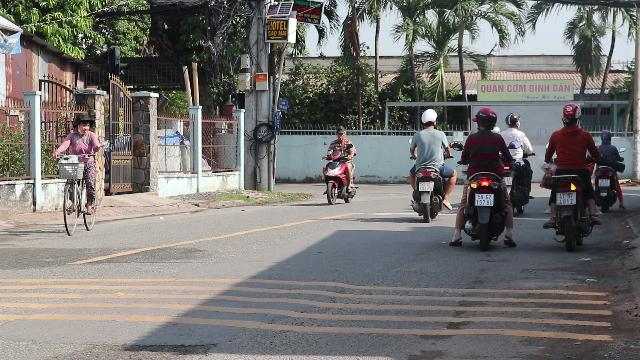helmet: (474, 106, 498, 130), (559, 103, 581, 127), (420, 108, 438, 128)
licenseplate: (556, 192, 576, 206), (475, 195, 493, 206), (419, 182, 433, 190)
motorcyclist: (451, 106, 515, 250), (540, 103, 602, 249), (404, 108, 456, 221)
